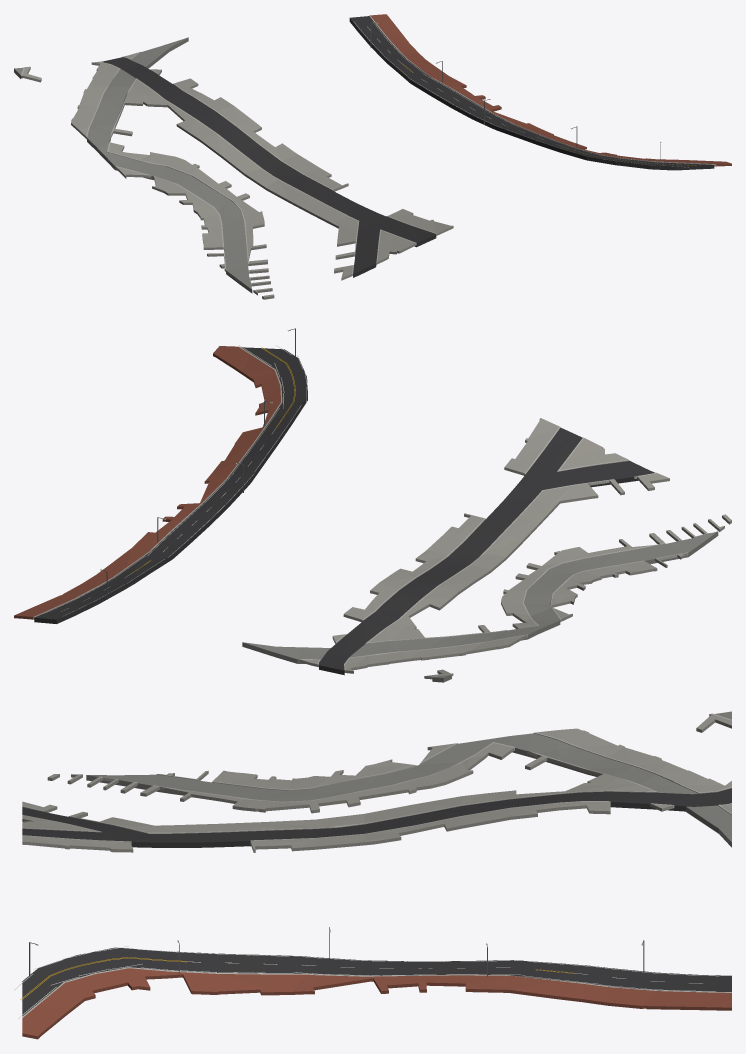
The picture shows the model from 3 angles, top to bottom: view 1: azimuth 30°, elevation 25°; view 2: azimuth 150°, elevation 25°; view 3: azimuth 270°, elevation 25°; orthographic projection. The views are drawn at different scales.
Size of the model in its own units: 147 by 21.45 by 148.
